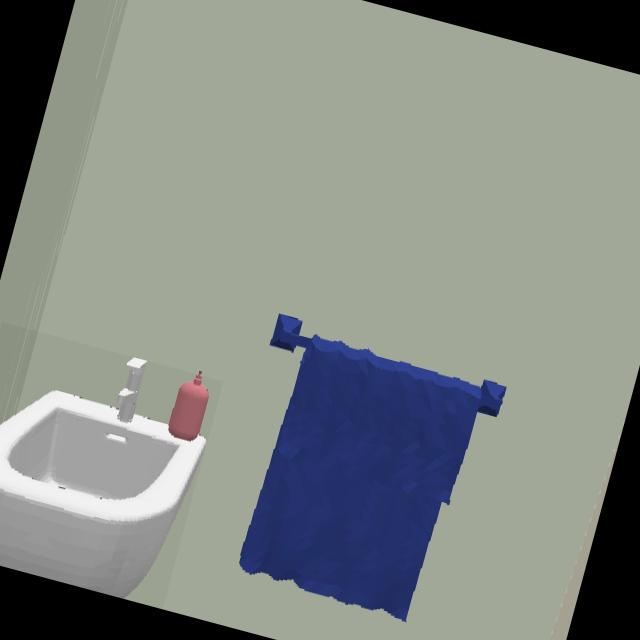washbasin: (0, 357, 207, 599)
